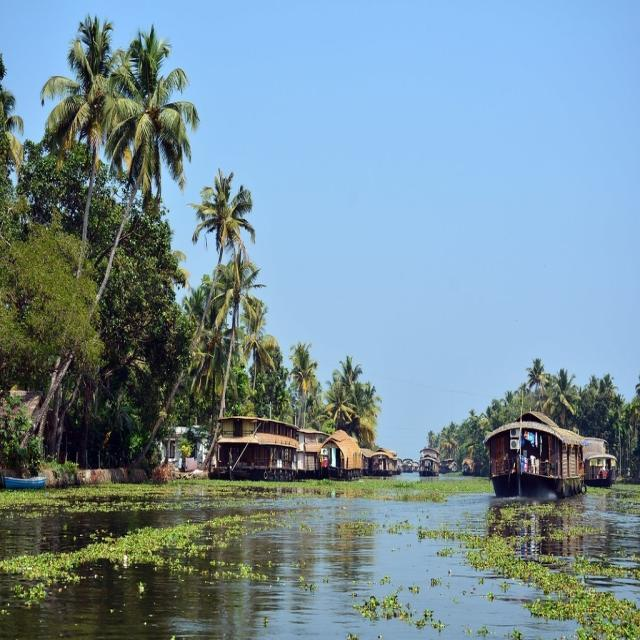Hyacinth: (476, 544, 638, 639), (91, 522, 207, 574), (6, 553, 82, 600), (346, 478, 488, 500), (356, 592, 436, 630), (1, 488, 63, 514), (78, 482, 167, 500), (592, 488, 640, 518)
boat: (488, 418, 584, 506), (206, 410, 294, 484), (366, 448, 398, 479), (417, 449, 445, 479)
